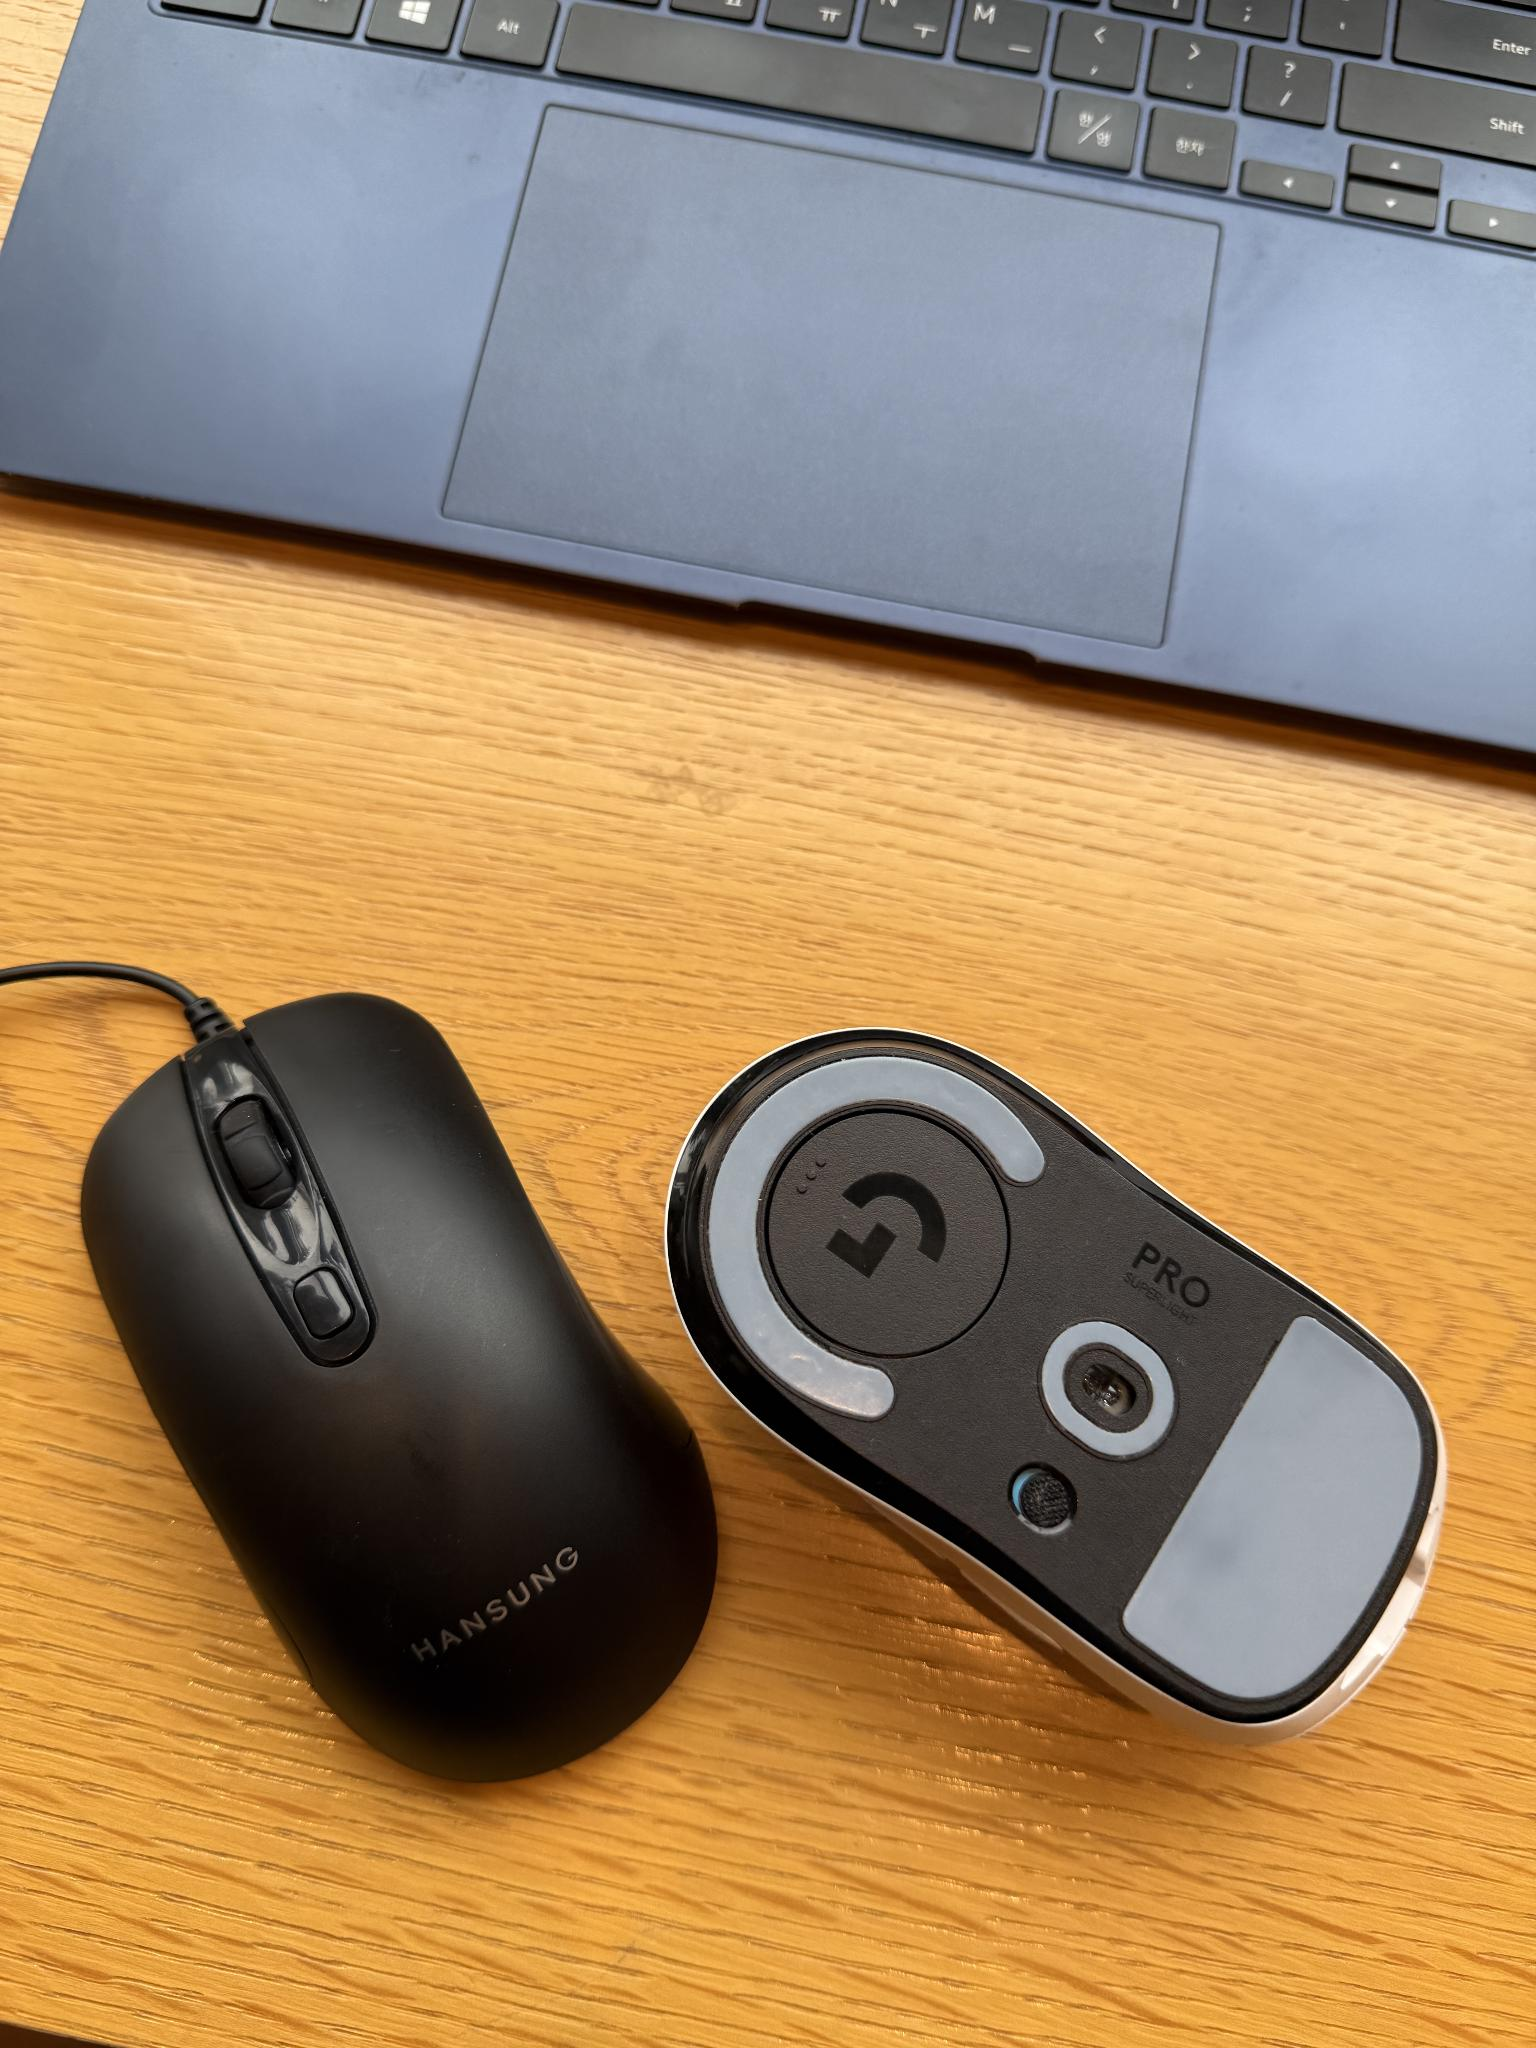back: (657, 1018, 1455, 1738)
front: (71, 985, 721, 1793)
